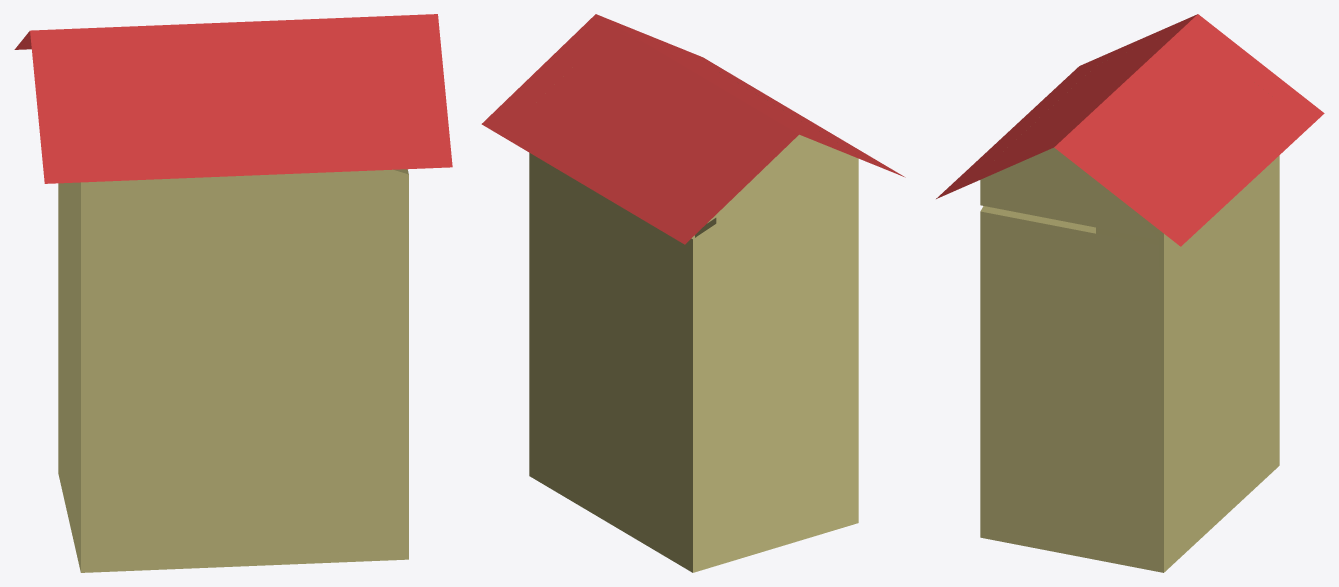
The picture shows the model from 3 angles, left to right: view 1: azimuth 30°, elevation 25°; view 2: azimuth 150°, elevation 25°; view 3: azimuth 270°, elevation 25°; orthographic projection. The views are drawn at different scales.
Size of the model in its own units: 6.29 by 5.73 by 6.82.
